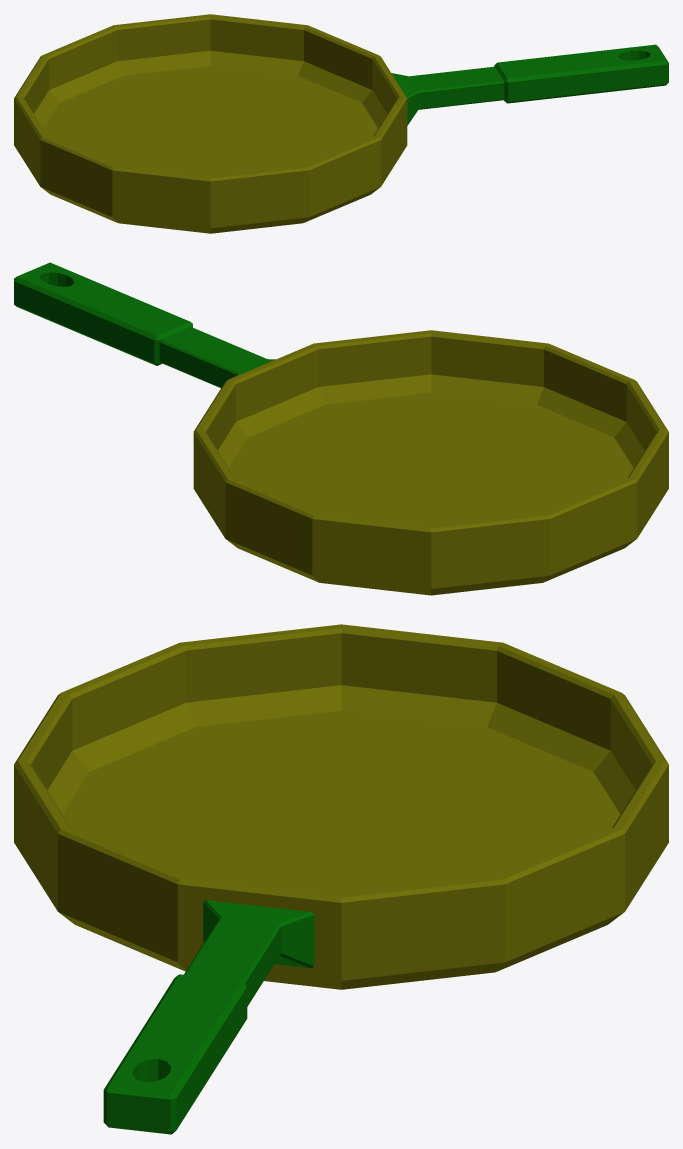
The model's file is Kitchen_SmallProps_Pan.fbx.
The picture shows the model from 3 angles, top to bottom: view 1: azimuth 30°, elevation 25°; view 2: azimuth 150°, elevation 25°; view 3: azimuth 270°, elevation 25°; orthographic projection. The views are drawn at different scales.
Visible parts, largest first — view 1: pan.001; view 2: pan.001; view 3: pan.001.
Part boxes in pixels (left/top/right/bottom): pan.001: left=14, top=14, right=668, bottom=233; pan.001: left=14, top=262, right=668, bottom=595; pan.001: left=14, top=624, right=668, bottom=1134.
Size of the model in its own units: 50.72 by 5.06 by 30.47.
